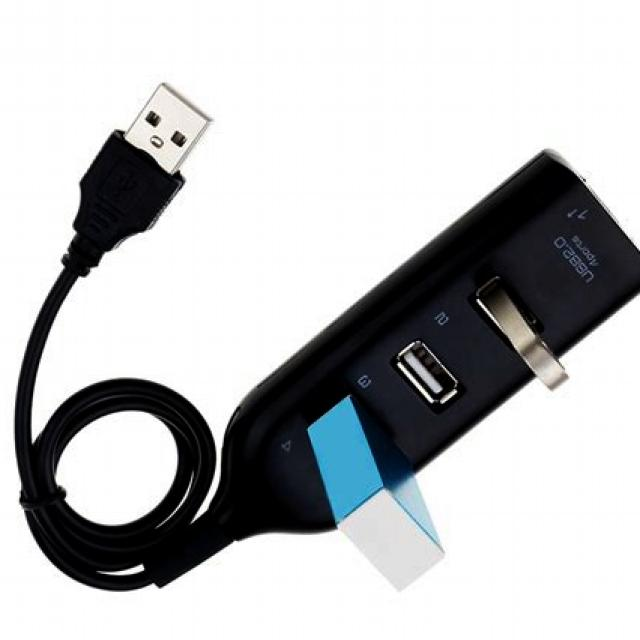usb port: (390, 341, 462, 416)
